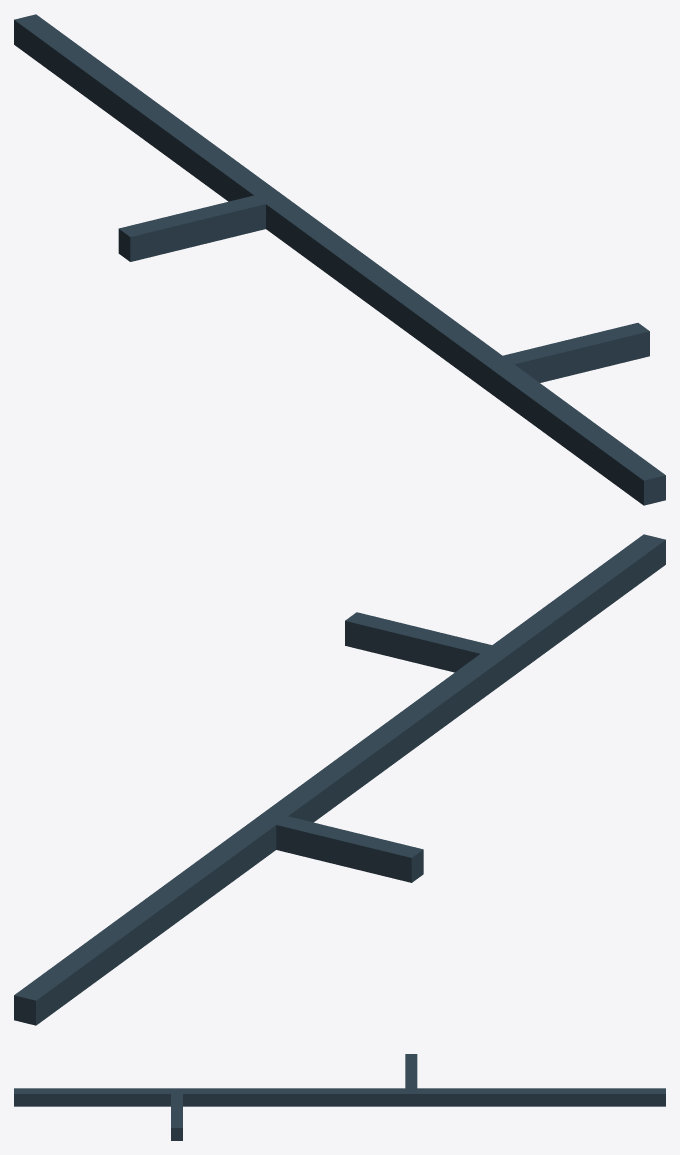
File: v02-transit-world-01-03-04.glb
3 views of the same model, one above another, from view 1: azimuth 30°, elevation 25°; view 2: azimuth 150°, elevation 25°; view 3: azimuth 270°, elevation 25° (orthographic). The views are drawn at different scales.
Visible parts, largest first — view 1: v02-transit-world-01-03-04; view 2: v02-transit-world-01-03-04; view 3: v02-transit-world-01-03-04.
Boxes of the visible parts, box(x1,y1,x2,y2) form: v02-transit-world-01-03-04: box(14, 14, 665, 505); v02-transit-world-01-03-04: box(14, 534, 665, 1025); v02-transit-world-01-03-04: box(14, 1054, 665, 1140).
Bounding box in the file's own units: 17.2 × 1.4 × 63.99.
